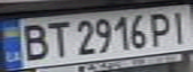1: (112, 12, 133, 52)
2: (72, 16, 96, 56)
6: (127, 11, 151, 50)
9: (90, 15, 115, 54)
B: (15, 20, 51, 62)
I: (166, 7, 193, 44)
P: (148, 9, 175, 46)
T: (42, 19, 72, 58)
